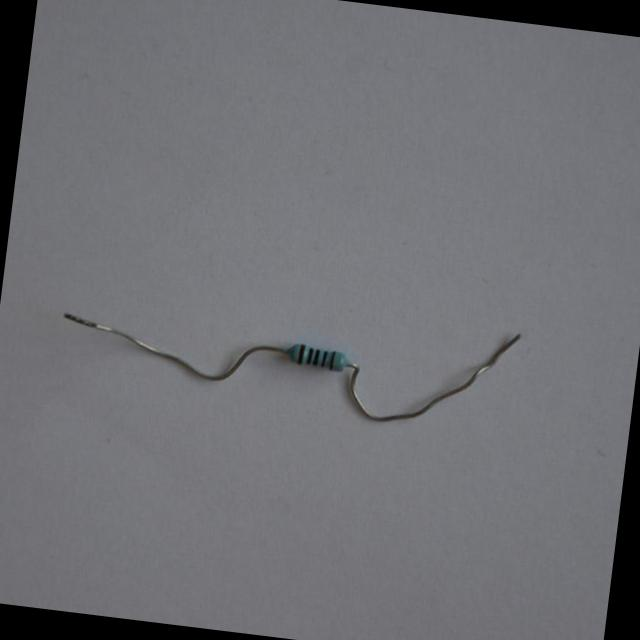Resistor: (288, 345, 346, 370)
black: (320, 350, 328, 368), (305, 348, 314, 363), (312, 349, 319, 364)
brown: (298, 345, 305, 364), (330, 351, 335, 369)
